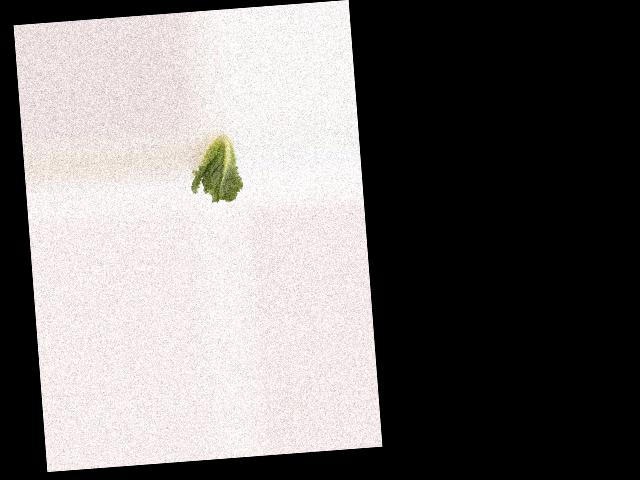lettuce: (189, 126, 245, 206)
